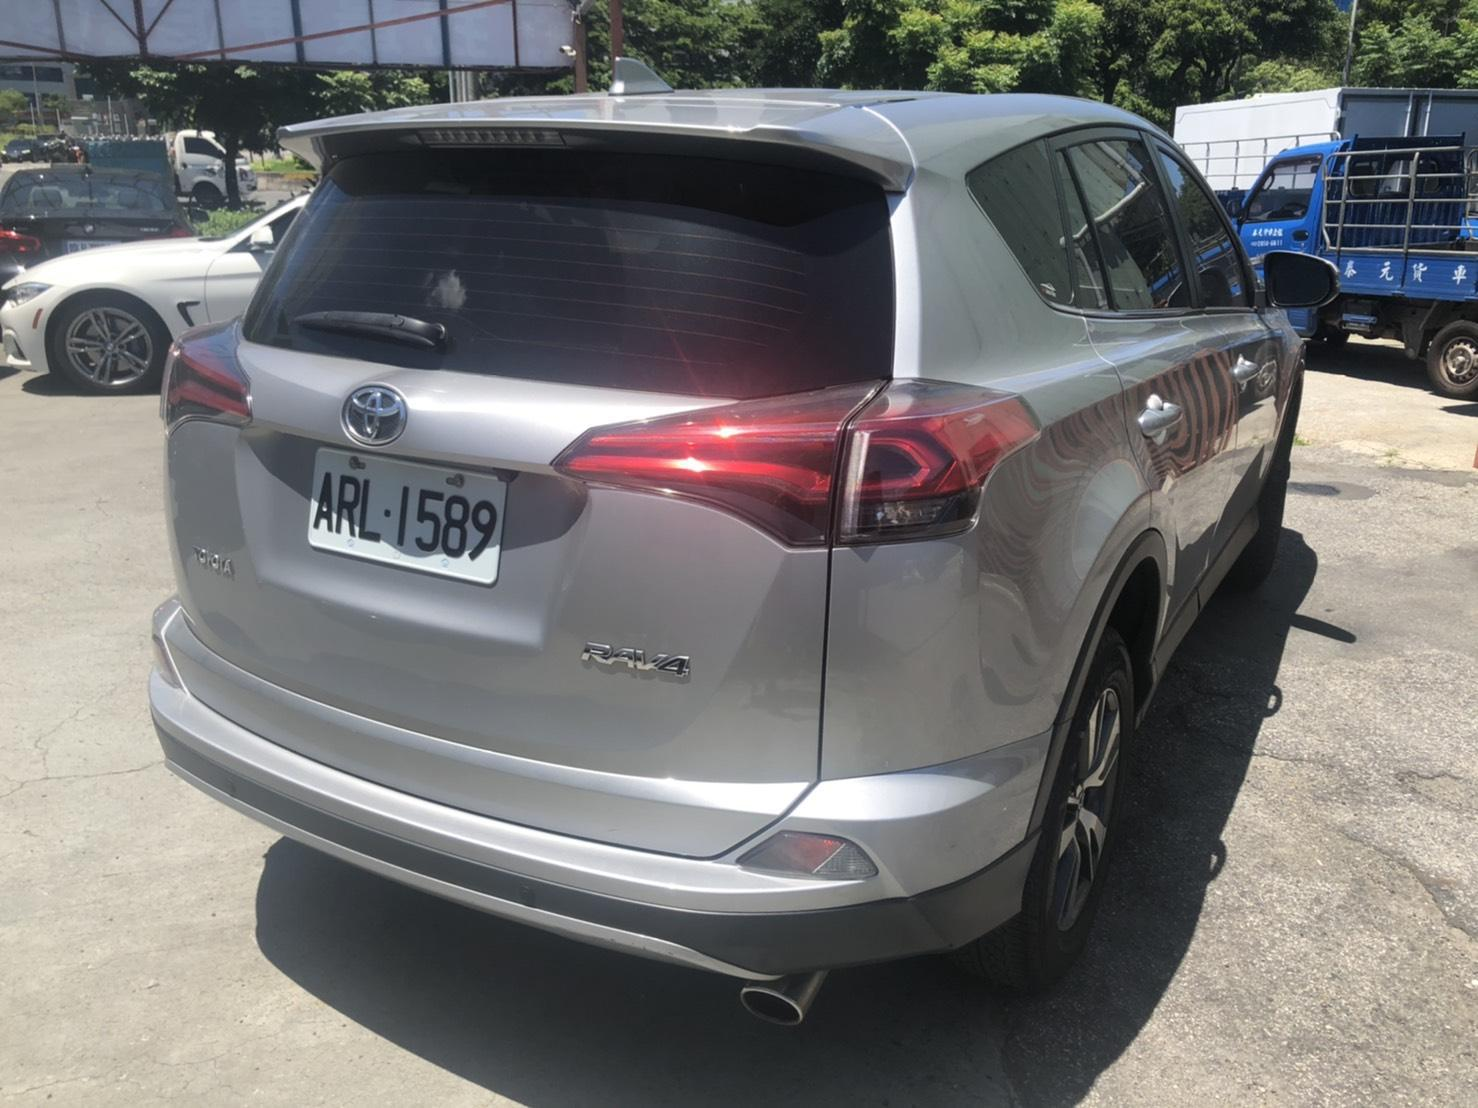toyota_rav4: (170, 106, 989, 952)
